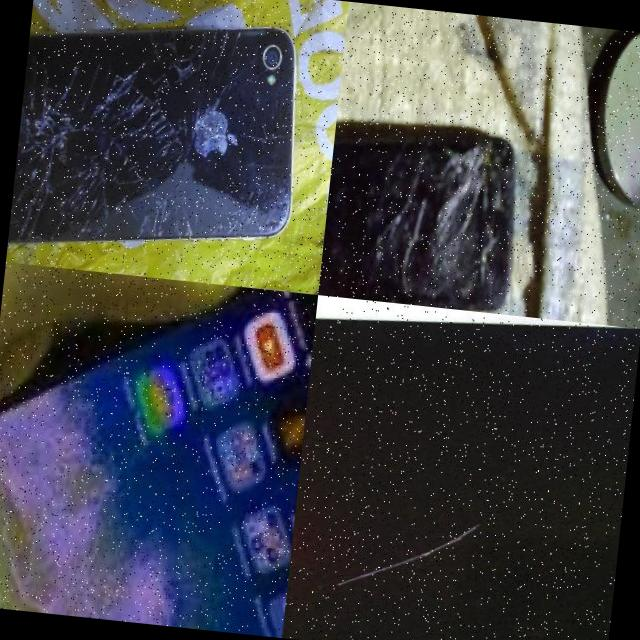screen crack: (7, 0, 316, 269), (364, 110, 526, 314)
